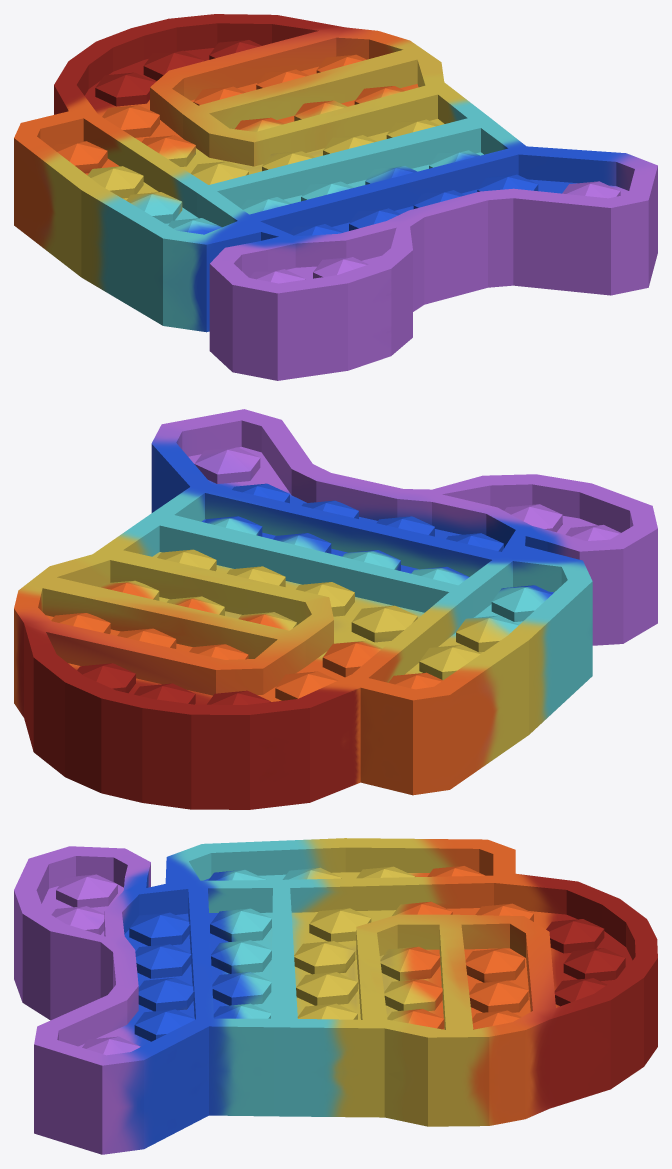
Rendered from popIt.fbx.
3 views of the same model, one above another, from view 1: azimuth 30°, elevation 25°; view 2: azimuth 150°, elevation 25°; view 3: azimuth 270°, elevation 25° (orthographic). The views are drawn at different scales.
Parts seen in each view (by area): view 1: popIt; view 2: popIt; view 3: popIt.
Boxes of the visible parts, x1,y1,x2,y2 form: popIt: [14, 14, 657, 380]; popIt: [14, 409, 657, 809]; popIt: [14, 838, 657, 1154].
Bounding box in the file's own units: 173 × 31.57 × 207.
